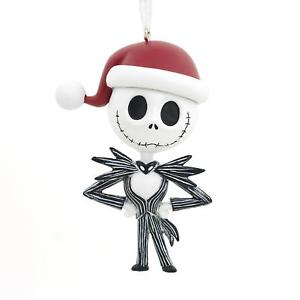Jack Skellington: (53, 41, 215, 273)
